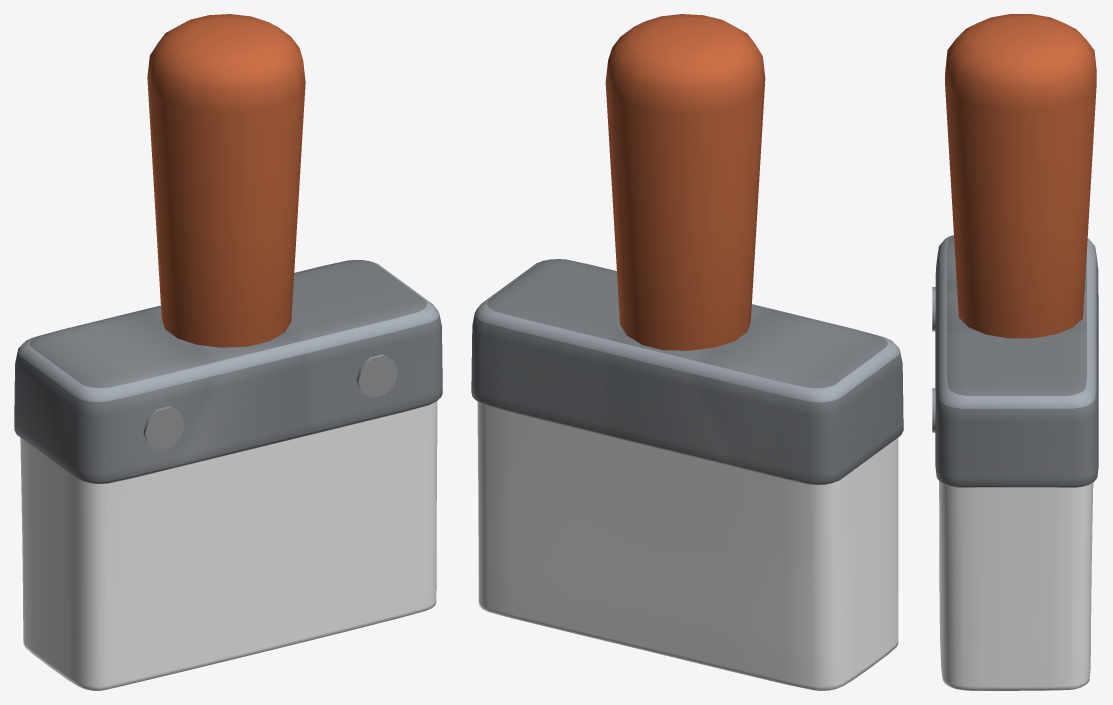
Rendered from PaintBrush-Animated.fbx.
3 renders of one model, left to right at view 1: azimuth 30°, elevation 25°; view 2: azimuth 150°, elevation 25°; view 3: azimuth 270°, elevation 25°, orthographic. The views are drawn at different scales.
Parts seen in each view (by area): view 1: PaintBrush-Animated; view 2: PaintBrush-Animated; view 3: PaintBrush-Animated.
Part boxes in pixels (x1,y1,x2,y2): PaintBrush-Animated: (14,14,442,690); PaintBrush-Animated: (471,14,903,690); PaintBrush-Animated: (932,14,1098,690).
Size of the model in its own units: 12.52 by 19.45 by 5.09.
